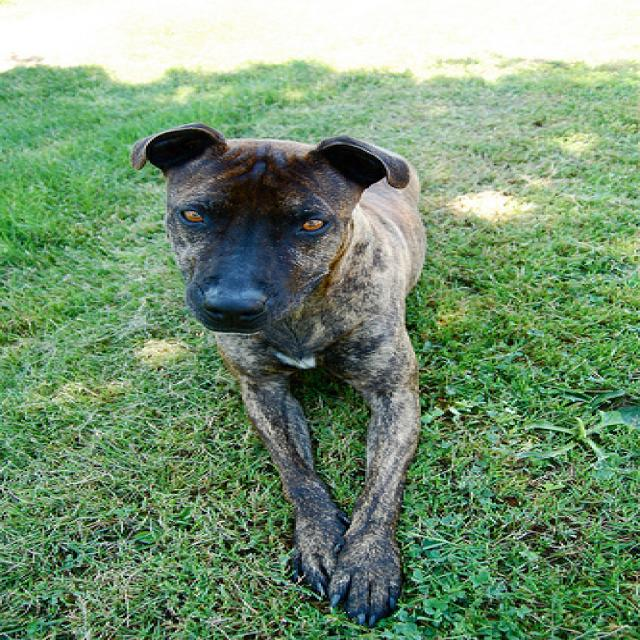dog-staffordshire_bull_terrier: (125, 115, 429, 625)
